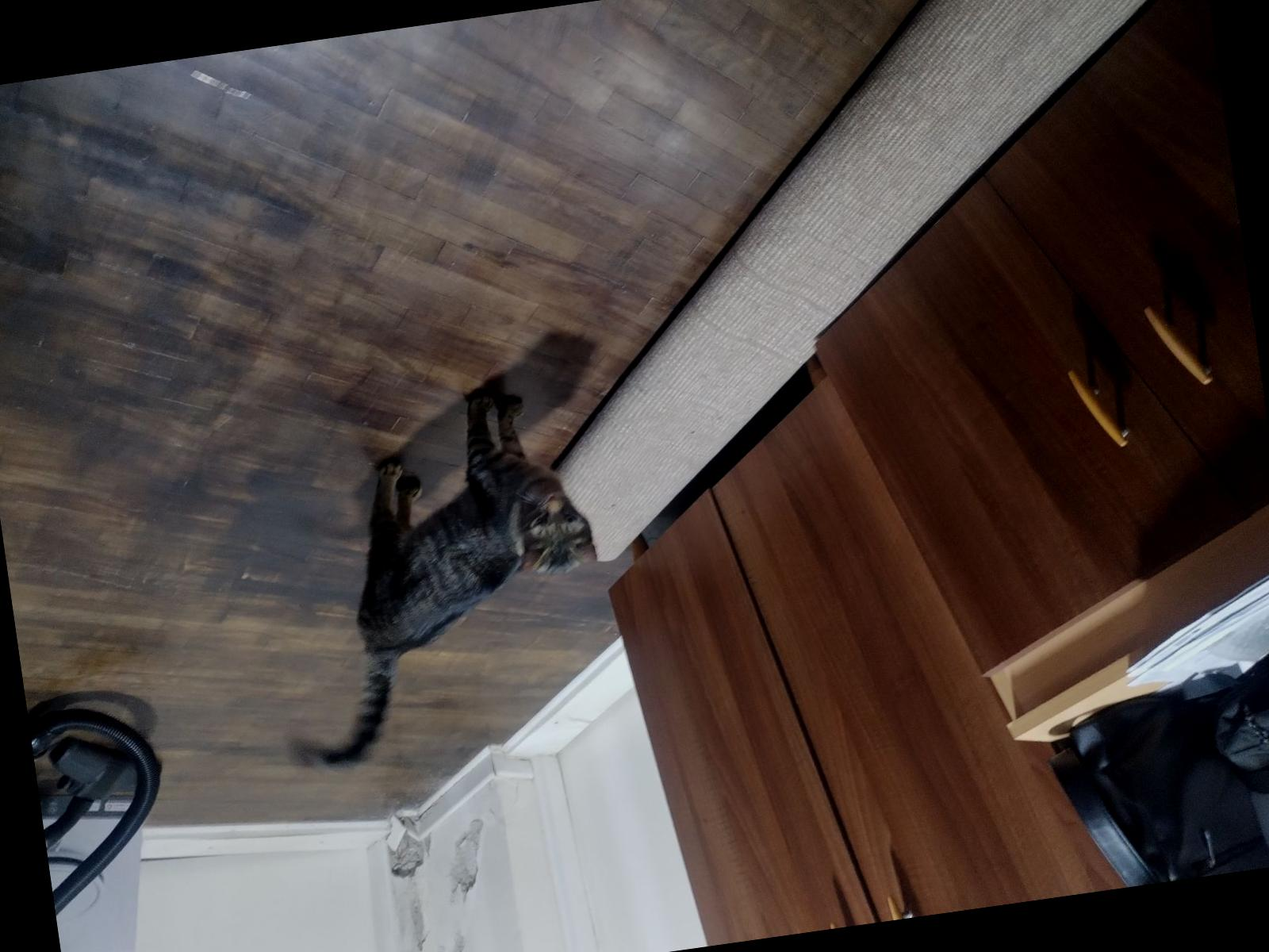macka: (248, 378, 623, 776)
